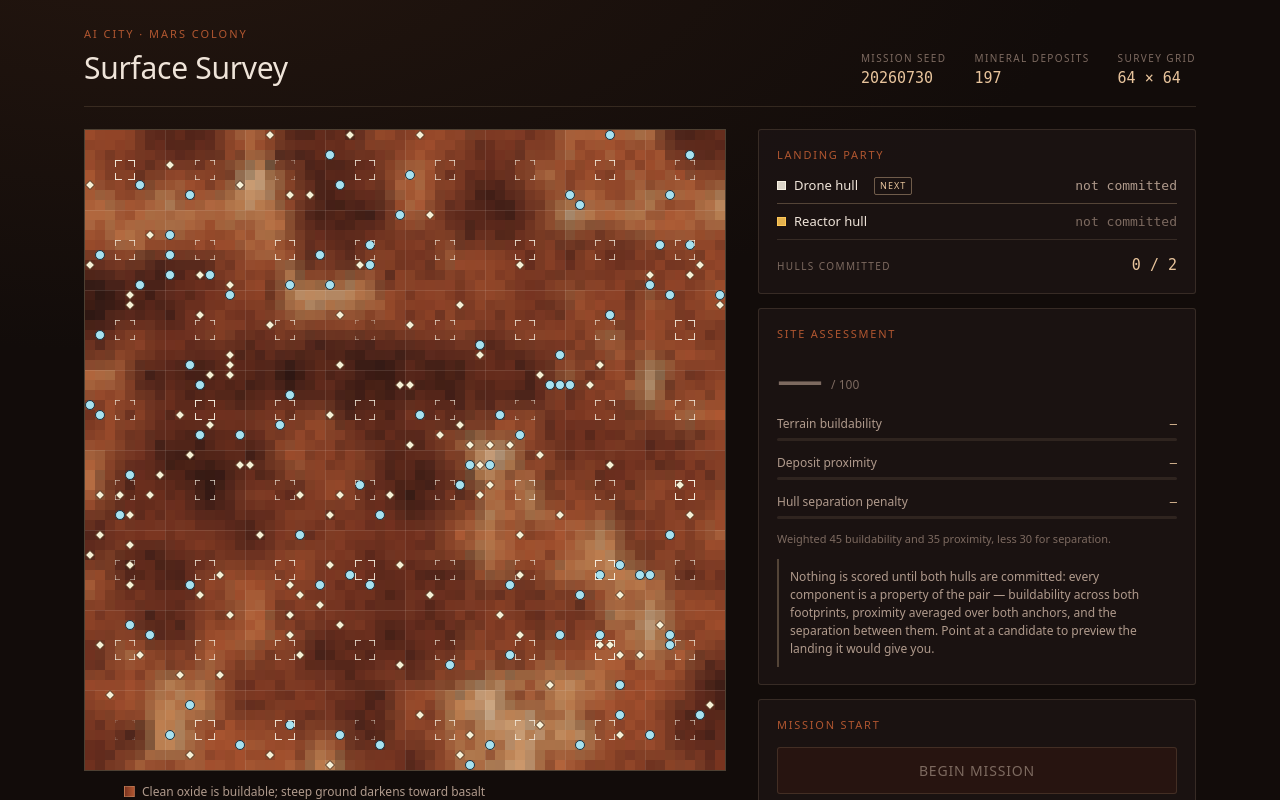
Test: App — dispatching the landing decision › should commit a hull when a candidate marker is clicked
The width and height of the screenshot is (1280, 800).
Expected: the text with test id "hulls-placed" shows "0", [1132,256,1177,274]
Click the button named "Candidate touchdown point (3, 3) — commits the drone hull": (125, 170) [111,156,139,184]
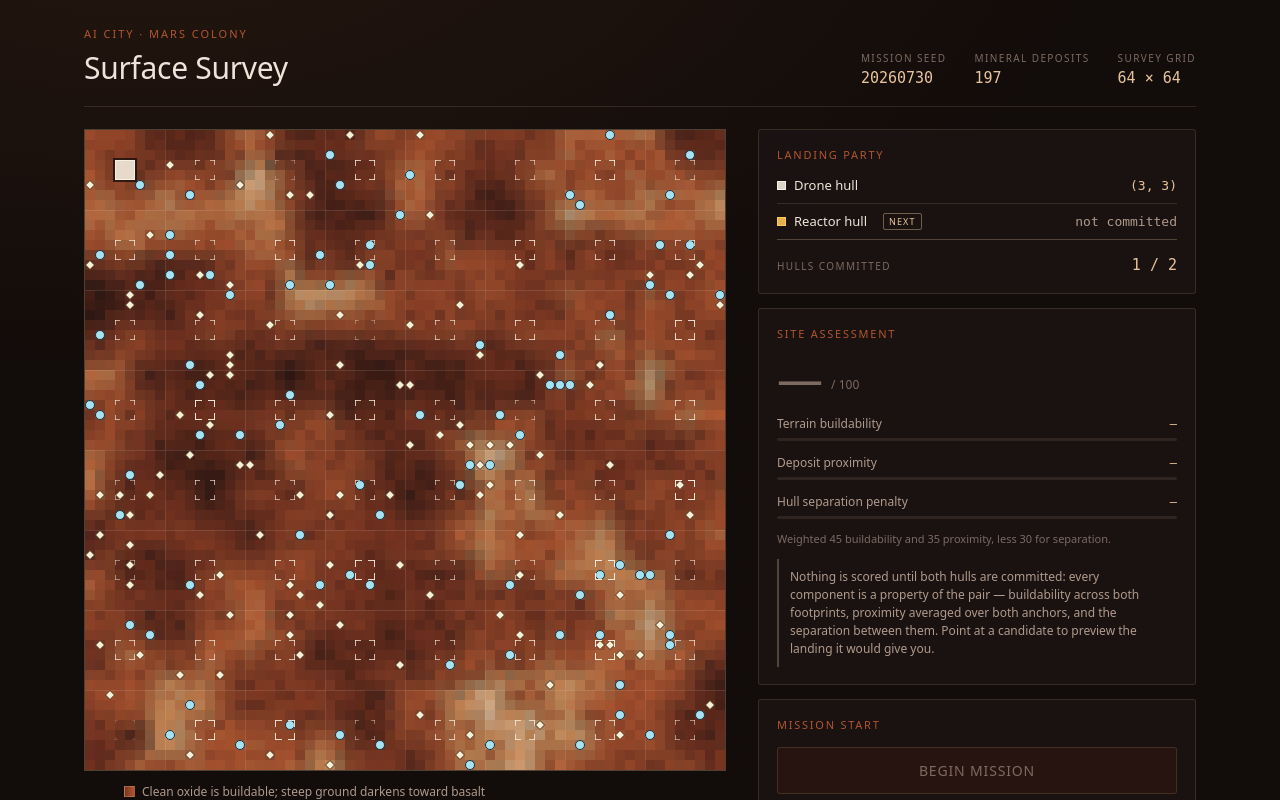
Result: the text with test id "hulls-placed" shows "1" at [1132,256,1177,274]
